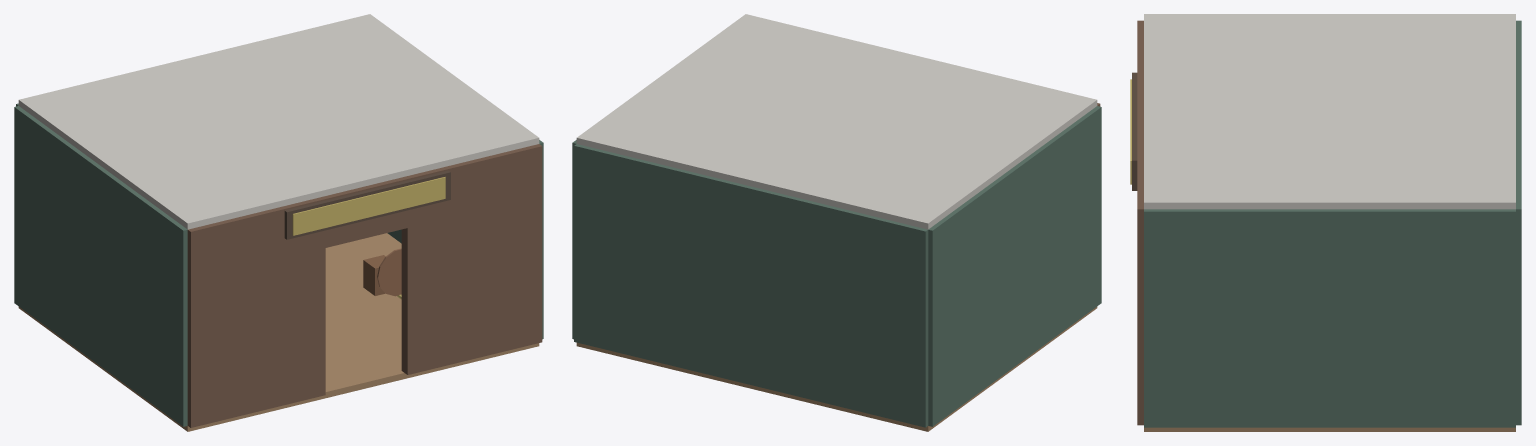
Rendered from cafe_interior.glb.
3 views of the same model, side by side, from view 1: azimuth 30°, elevation 25°; view 2: azimuth 150°, elevation 25°; view 3: azimuth 270°, elevation 25° (orthographic). The views are drawn at different scales.
Visible parts, largest first — view 1: geometry_0; view 2: geometry_0; view 3: geometry_0.
Part boxes in pixels (bbox=[...]): geometry_0: bbox=[14, 14, 543, 431]; geometry_0: bbox=[572, 14, 1101, 431]; geometry_0: bbox=[1130, 14, 1521, 431].
Bounding box in the file's own units: 6.15 × 3.4 × 5.26.
